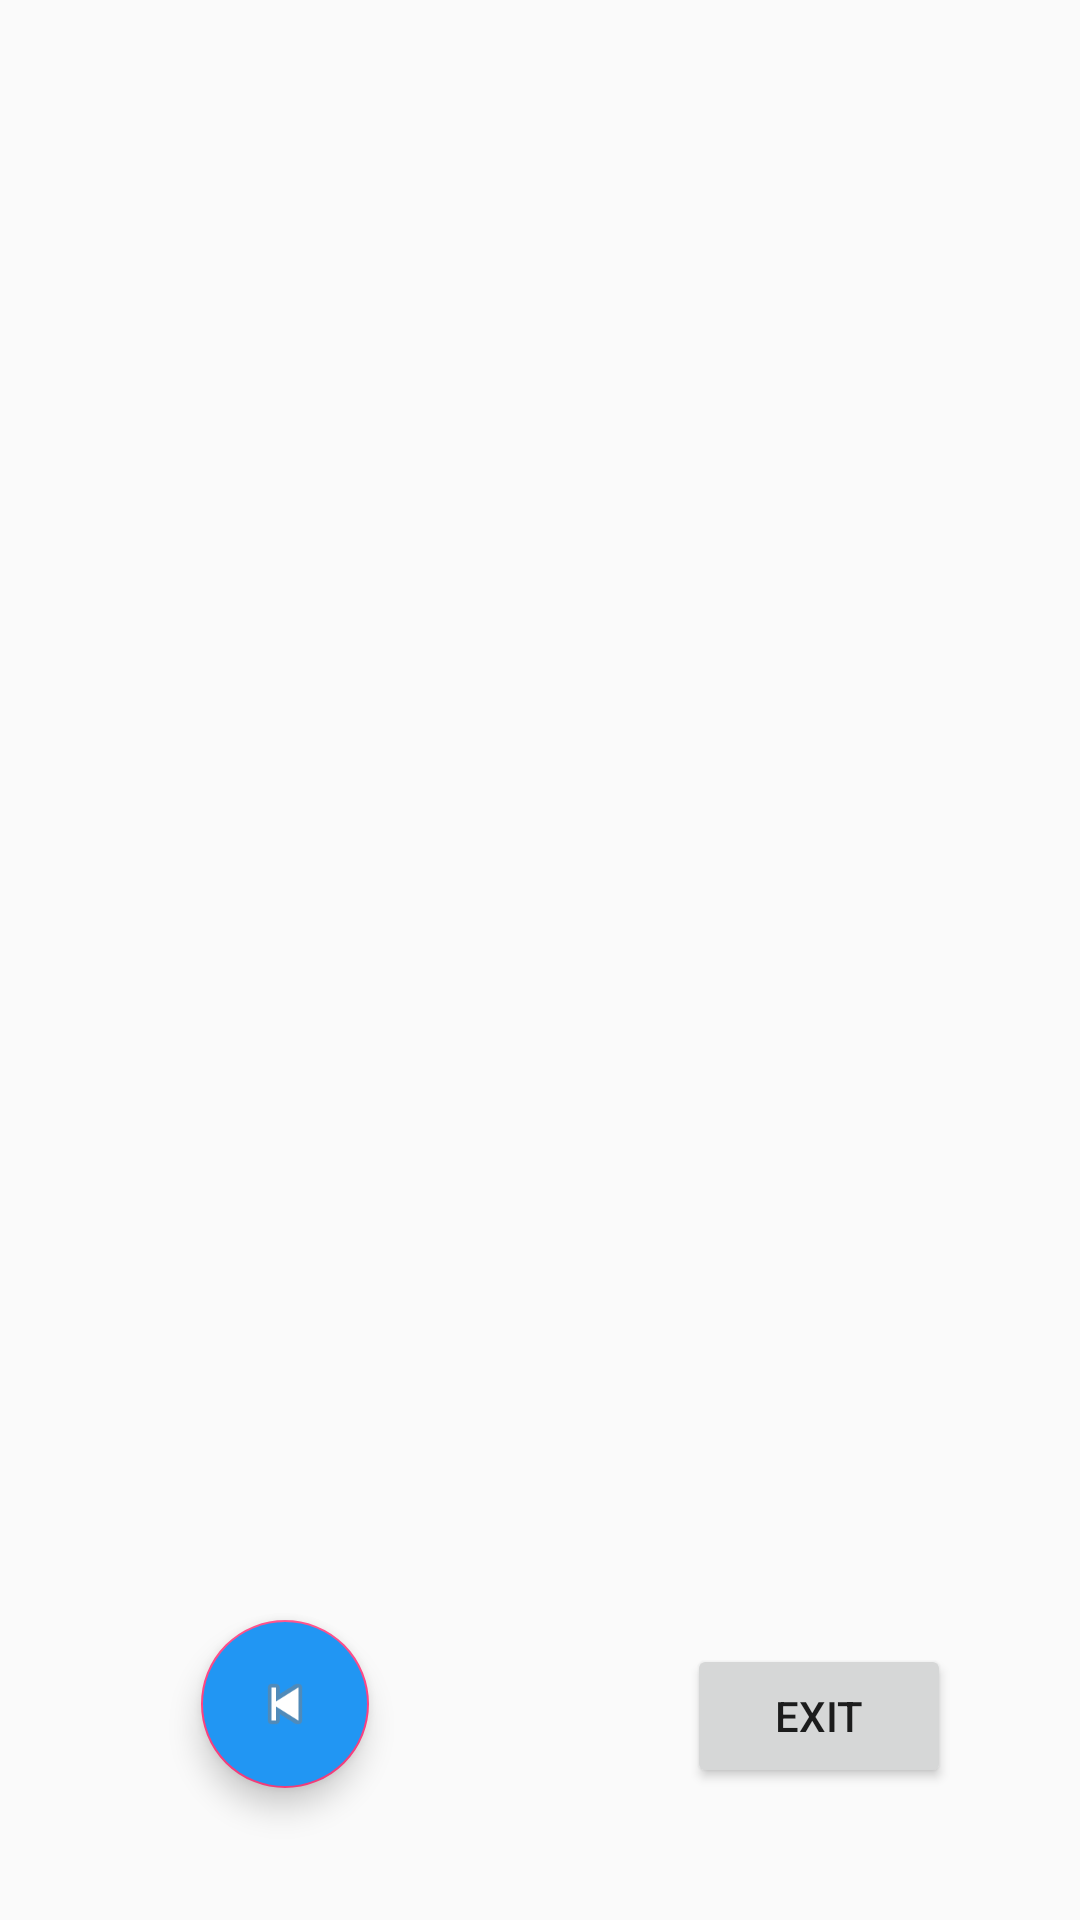

Named icons in this screenshot (1080×1920) and their bounding boxes, box=[x1, y1, x2, y2]:
previous: box=[201, 1620, 369, 1788]
